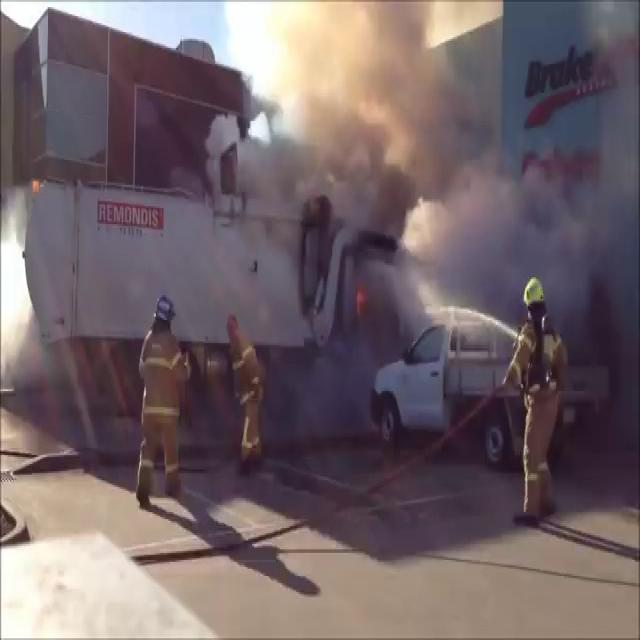Fire: (1, 194, 38, 354)
Smoke: (226, 0, 640, 439)
